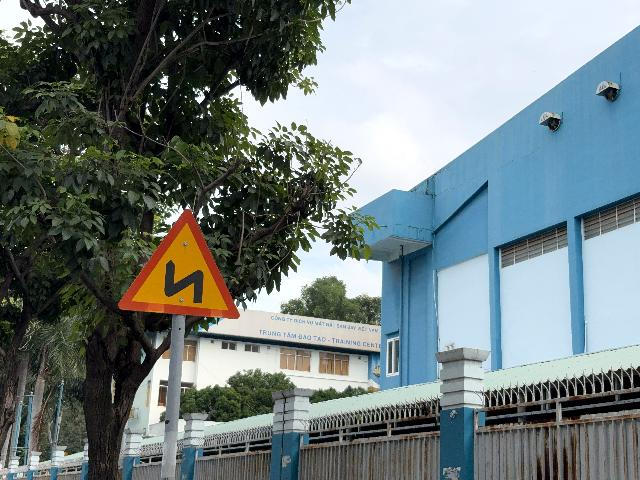nhieu-cho-ngoat-nguy-hiem-lien-tiep: (118, 208, 241, 320)
